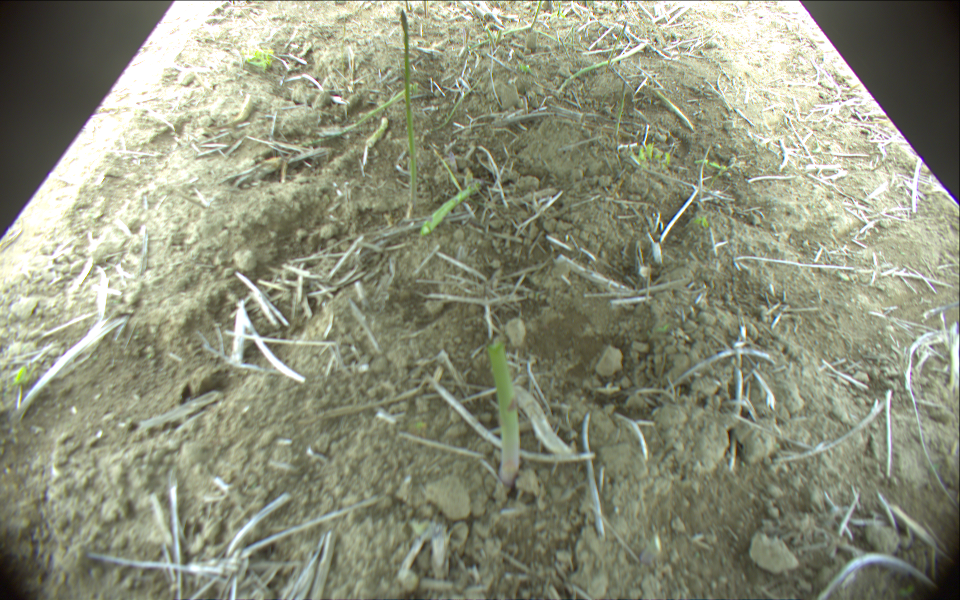aspa: (318, 81, 418, 138), (488, 338, 522, 482), (555, 40, 647, 92), (420, 178, 481, 239), (400, 9, 418, 211), (639, 79, 694, 134), (605, 22, 628, 68), (610, 81, 626, 139), (528, 1, 542, 32), (421, 1, 429, 18), (405, 1, 410, 12)
